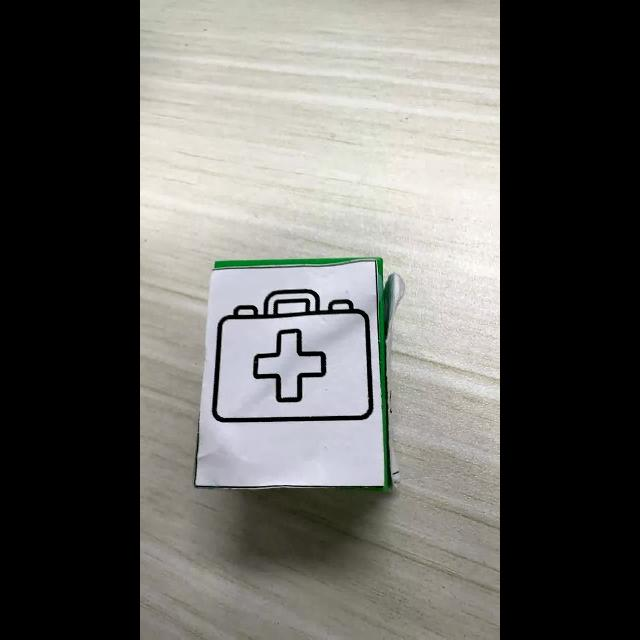Medkit: (211, 286, 373, 423)
